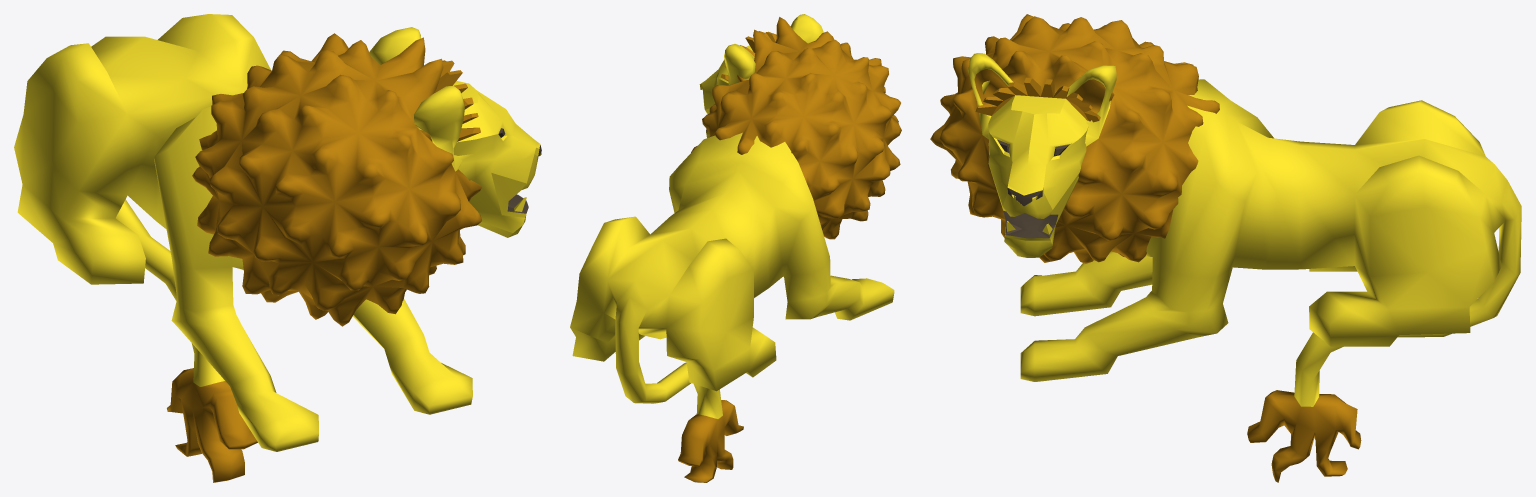
File: trampa leon de piedra.fbx
The picture shows the model from 3 angles, left to right: view 1: azimuth 30°, elevation 25°; view 2: azimuth 150°, elevation 25°; view 3: azimuth 270°, elevation 25°; orthographic projection. The views are drawn at different scales.
Visible parts, largest first — view 1: Cube, Icosphere, Cube.001; view 2: Cube, Icosphere, Cube.001; view 3: Cube, Icosphere, Cube.001.
Boxes of the visible parts, x1,y1,x2,y2 form: Cube: (14,14,472,482); Icosphere: (192,27,481,326); Cube.001: (434,60,541,237); Cube: (570,132,894,482); Icosphere: (691,14,901,239); Cube.001: (699,31,776,137); Cube: (1020,79,1521,482); Icosphere: (930,14,1219,263); Cube.001: (975,77,1100,257).
Size of the model in its own units: 24.08 by 40.55 by 47.7.
